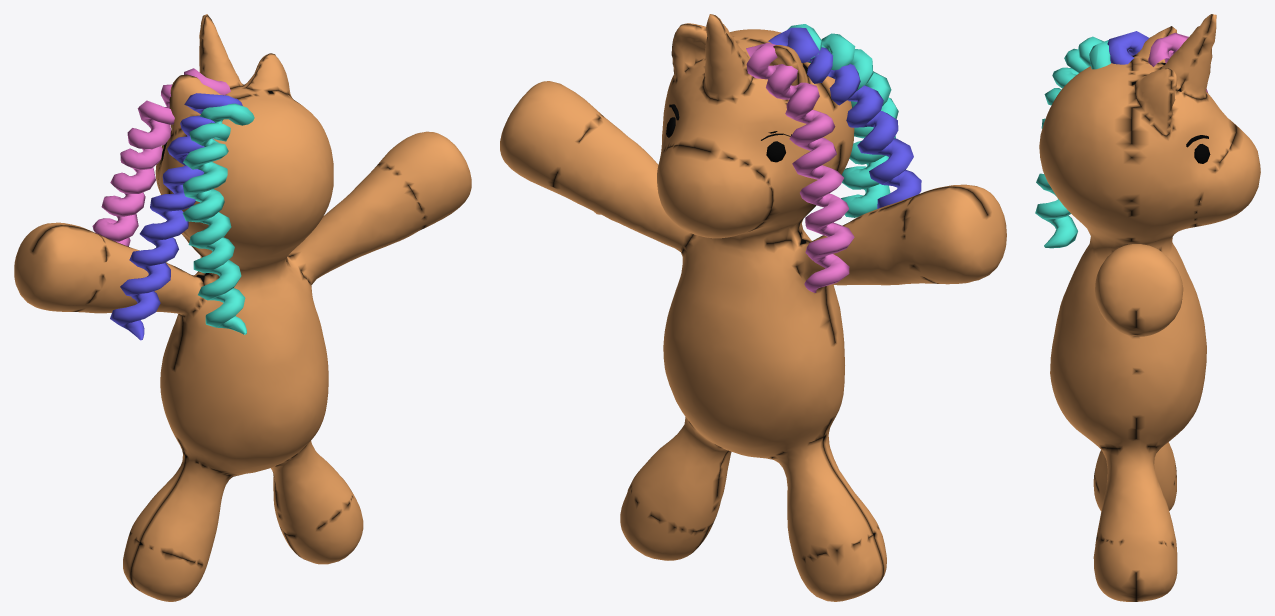
The model's file is unicorn gumroad.fbx.
3 renders of one model, left to right at view 1: azimuth 30°, elevation 25°; view 2: azimuth 150°, elevation 25°; view 3: azimuth 270°, elevation 25°, orthographic. The views are drawn at different scales.
Visible parts, largest first — view 1: Sphere.006, NurbsPath.004, NurbsPath.001, NurbsPath; view 2: Sphere.006, NurbsPath, NurbsPath.001, NurbsPath.004; view 3: Sphere.006, NurbsPath.004, NurbsPath.001, NurbsPath.
Part boxes in pixels (<box>): Sphere.006: <box>14,14,471,601</box>; NurbsPath.004: <box>182,103,254,334</box>; NurbsPath.001: <box>110,93,242,340</box>; NurbsPath: <box>92,68,230,246</box>; Sphere.006: <box>500,14,1006,601</box>; NurbsPath: <box>746,42,854,292</box>; NurbsPath.001: <box>768,27,921,208</box>; NurbsPath.004: <box>787,24,898,217</box>; Sphere.006: <box>1039,14,1260,601</box>; NurbsPath.004: <box>1035,36,1110,248</box>; NurbsPath.001: <box>1107,31,1148,64</box>; NurbsPath: <box>1148,32,1208,93</box>.
Bounding box in the file's own units: 34.04 × 39.56 × 14.78.
